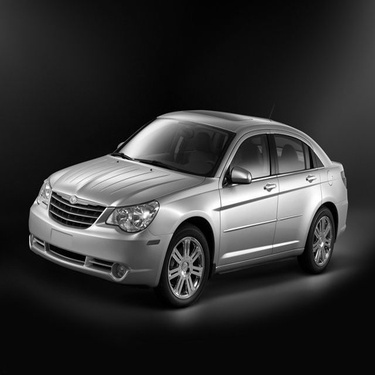car: (26, 105, 357, 317)
